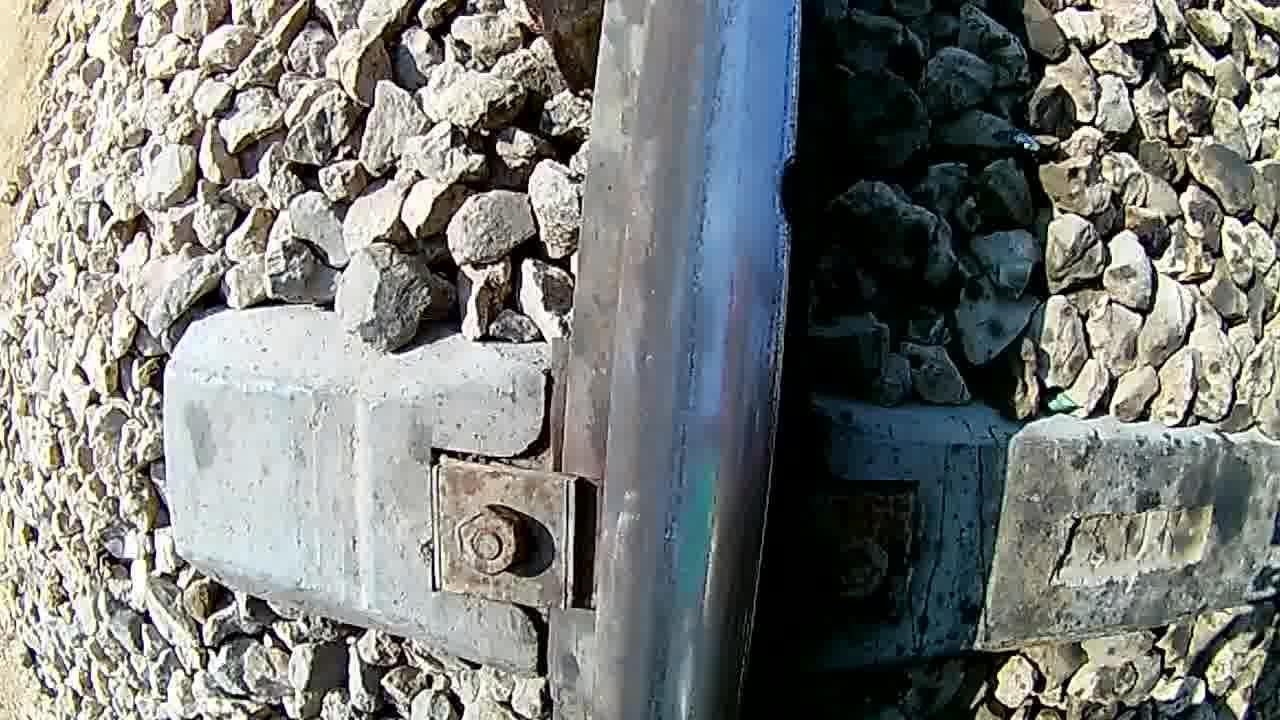crack: (601, 2, 773, 720)
